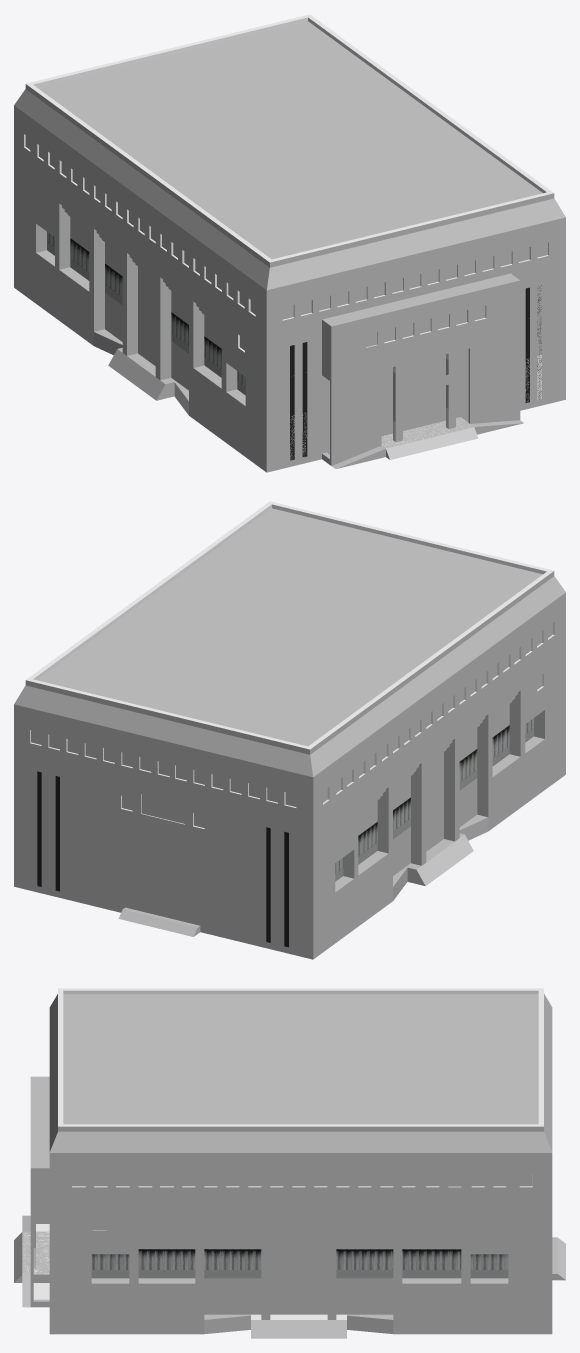
The model's file is appearance.dae.
3 renders of one model, top to bottom at view 1: azimuth 30°, elevation 25°; view 2: azimuth 150°, elevation 25°; view 3: azimuth 270°, elevation 25°, orthographic.
Parts seen in each view (by area): view 1: ID79, ID207, ID948, ID433, ID24, ID1466, ID446, ID1967, ID1428, ID420, ID45, ID819 (+14 smaller); view 2: ID79, ID940, ID207, ID433, ID1673, ID1466, ID446, ID420, ID819, ID892, ID916, ID783 (+15 smaller); view 3: ID79, ID207, ID433, ID170, ID1466, ID446, ID884, ID420, ID819, ID1967, ID392, ID841 (+29 smaller).
Part boxes in pixels (x1=…): ID79: x1=37, y1=21, x2=542, y2=259; ID207: x1=14, y1=115, x2=565, y2=472; ID948: x1=331, y1=292, x2=520, y2=465; ID433: x1=14, y1=89, x2=565, y2=290; ID24: x1=266, y1=331, x2=329, y2=472; ID1466: x1=14, y1=105, x2=565, y2=299; ID446: x1=26, y1=14, x2=553, y2=262; ID1967: x1=322, y1=273, x2=520, y2=338; ID1428: x1=381, y1=350, x2=460, y2=435; ID420: x1=25, y1=84, x2=554, y2=267; ID45: x1=460, y1=349, x2=565, y2=422; ID819: x1=33, y1=17, x2=546, y2=193; ID79: x1=37, y1=508, x2=542, y2=746; ID940: x1=14, y1=759, x2=313, y2=959; ID207: x1=313, y1=602, x2=565, y2=959; ID433: x1=14, y1=576, x2=565, y2=777; ID1673: x1=14, y1=714, x2=313, y2=831; ID1466: x1=14, y1=592, x2=565, y2=786; ID446: x1=26, y1=501, x2=553, y2=749; ID420: x1=25, y1=571, x2=554, y2=754; ID819: x1=33, y1=504, x2=546, y2=680; ID892: x1=354, y1=677, x2=525, y2=808; ID916: x1=426, y1=752, x2=443, y2=851; ID783: x1=411, y1=763, x2=426, y2=865; ID79: x1=63, y1=994, x2=538, y2=1124; ID207: x1=49, y1=1162, x2=552, y2=1334; ID433: x1=49, y1=994, x2=552, y2=1152; ID170: x1=270, y1=1226, x2=327, y2=1314; ID1466: x1=49, y1=1153, x2=552, y2=1162; ID446: x1=58, y1=988, x2=543, y2=1126; ID884: x1=129, y1=1207, x2=470, y2=1230; ID420: x1=58, y1=1126, x2=543, y2=1131; ID819: x1=63, y1=990, x2=538, y2=994; ID1967: x1=30, y1=1076, x2=49, y2=1180; ID392: x1=251, y1=1320, x2=346, y2=1338; ID841: x1=22, y1=1215, x2=49, y2=1307.
Size of the model in its own units: 1644 by 1016 by 2489.
